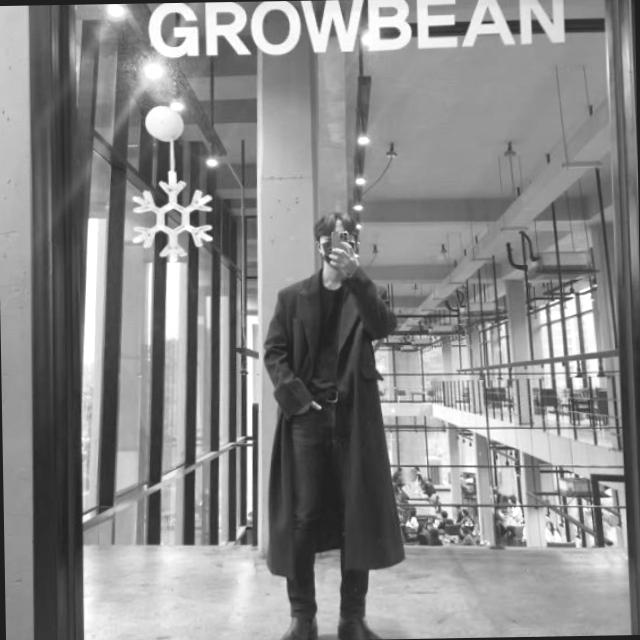coat: (259, 262, 406, 578)
denimpants: (280, 400, 372, 626)
